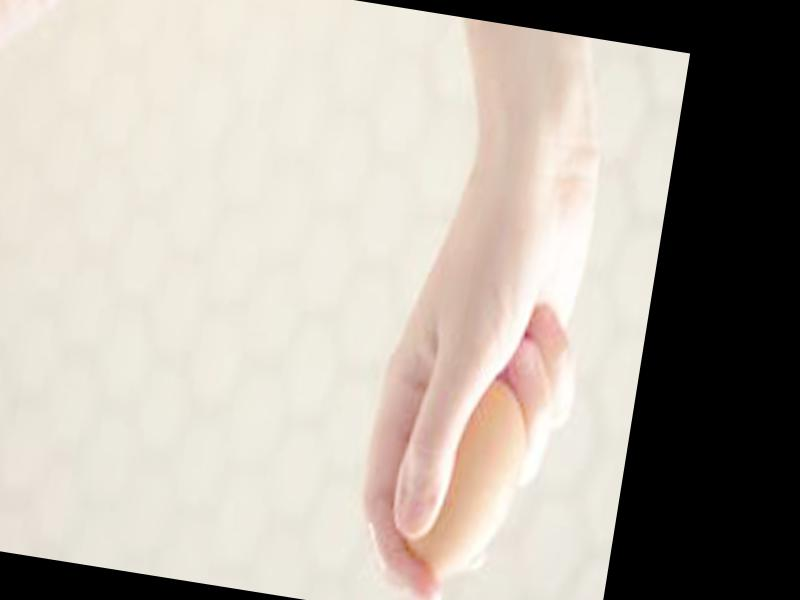Eggs: (393, 368, 540, 584)
